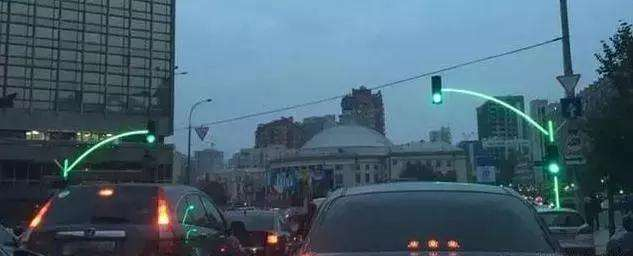green: (427, 72, 445, 108), (543, 142, 560, 178), (143, 117, 158, 148)
